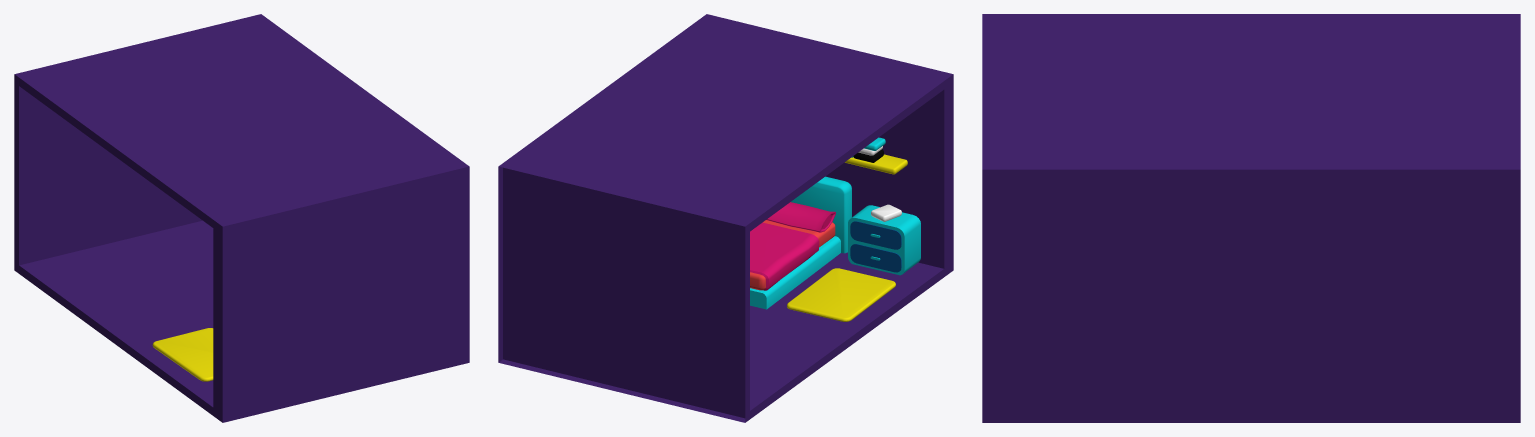
File: SM_Room03.fbx
3 renders of one model, left to right at view 1: azimuth 30°, elevation 25°; view 2: azimuth 150°, elevation 25°; view 3: azimuth 270°, elevation 25°, orthographic. The views are drawn at different scales.
Visible parts, largest first — view 1: Cube.213, Cube.249, Cube.210, Cube.251, Tapis rectangle.001; view 2: Cube.249, Cube.210, Cube.251, Cube.213, Matress.001, Tapis rectangle.001, tABLEbASSE.005, Tetedelit, Bed.024, Room03, Pillow2.001, Tiroirs.006 (+2 smaller); view 3: Room03, Cube.249, Cube.213, Cube.251, Cube.210.
Part boxes in pixels (x1=…): Cube.213: x1=213, y1=159, x2=469, y2=422; Cube.249: x1=19, y1=17, x2=459, y2=227; Cube.210: x1=14, y1=14, x2=265, y2=273; Cube.251: x1=19, y1=220, x2=213, y2=415; Tapis rectangle.001: x1=152, y1=328, x2=213, y2=381; Cube.249: x1=503, y1=21, x2=944, y2=231; Cube.210: x1=498, y1=163, x2=749, y2=422; Cube.251: x1=503, y1=252, x2=944, y2=418; Cube.213: x1=697, y1=14, x2=953, y2=276; Matress.001: x1=750, y1=220, x2=835, y2=290; Tapis rectangle.001: x1=787, y1=268, x2=895, y2=321; tABLEbASSE.005: x1=848, y1=205, x2=920, y2=275; Tetedelit: x1=791, y1=176, x2=851, y2=253; Bed.024: x1=750, y1=236, x2=840, y2=309; Room03: x1=503, y1=158, x2=525, y2=354; Pillow2.001: x1=766, y1=202, x2=835, y2=232; Tiroirs.006: x1=850, y1=244, x2=901, y2=272; Room03: x1=1006, y1=169, x2=1508, y2=411; Cube.249: x1=1006, y1=14, x2=1508, y2=180; Cube.213: x1=982, y1=14, x2=1006, y2=422; Cube.251: x1=1006, y1=412, x2=1508, y2=422; Cube.210: x1=1508, y1=14, x2=1520, y2=422.
Bounding box in the file's own units: 55000 × 41807 × 80421.
